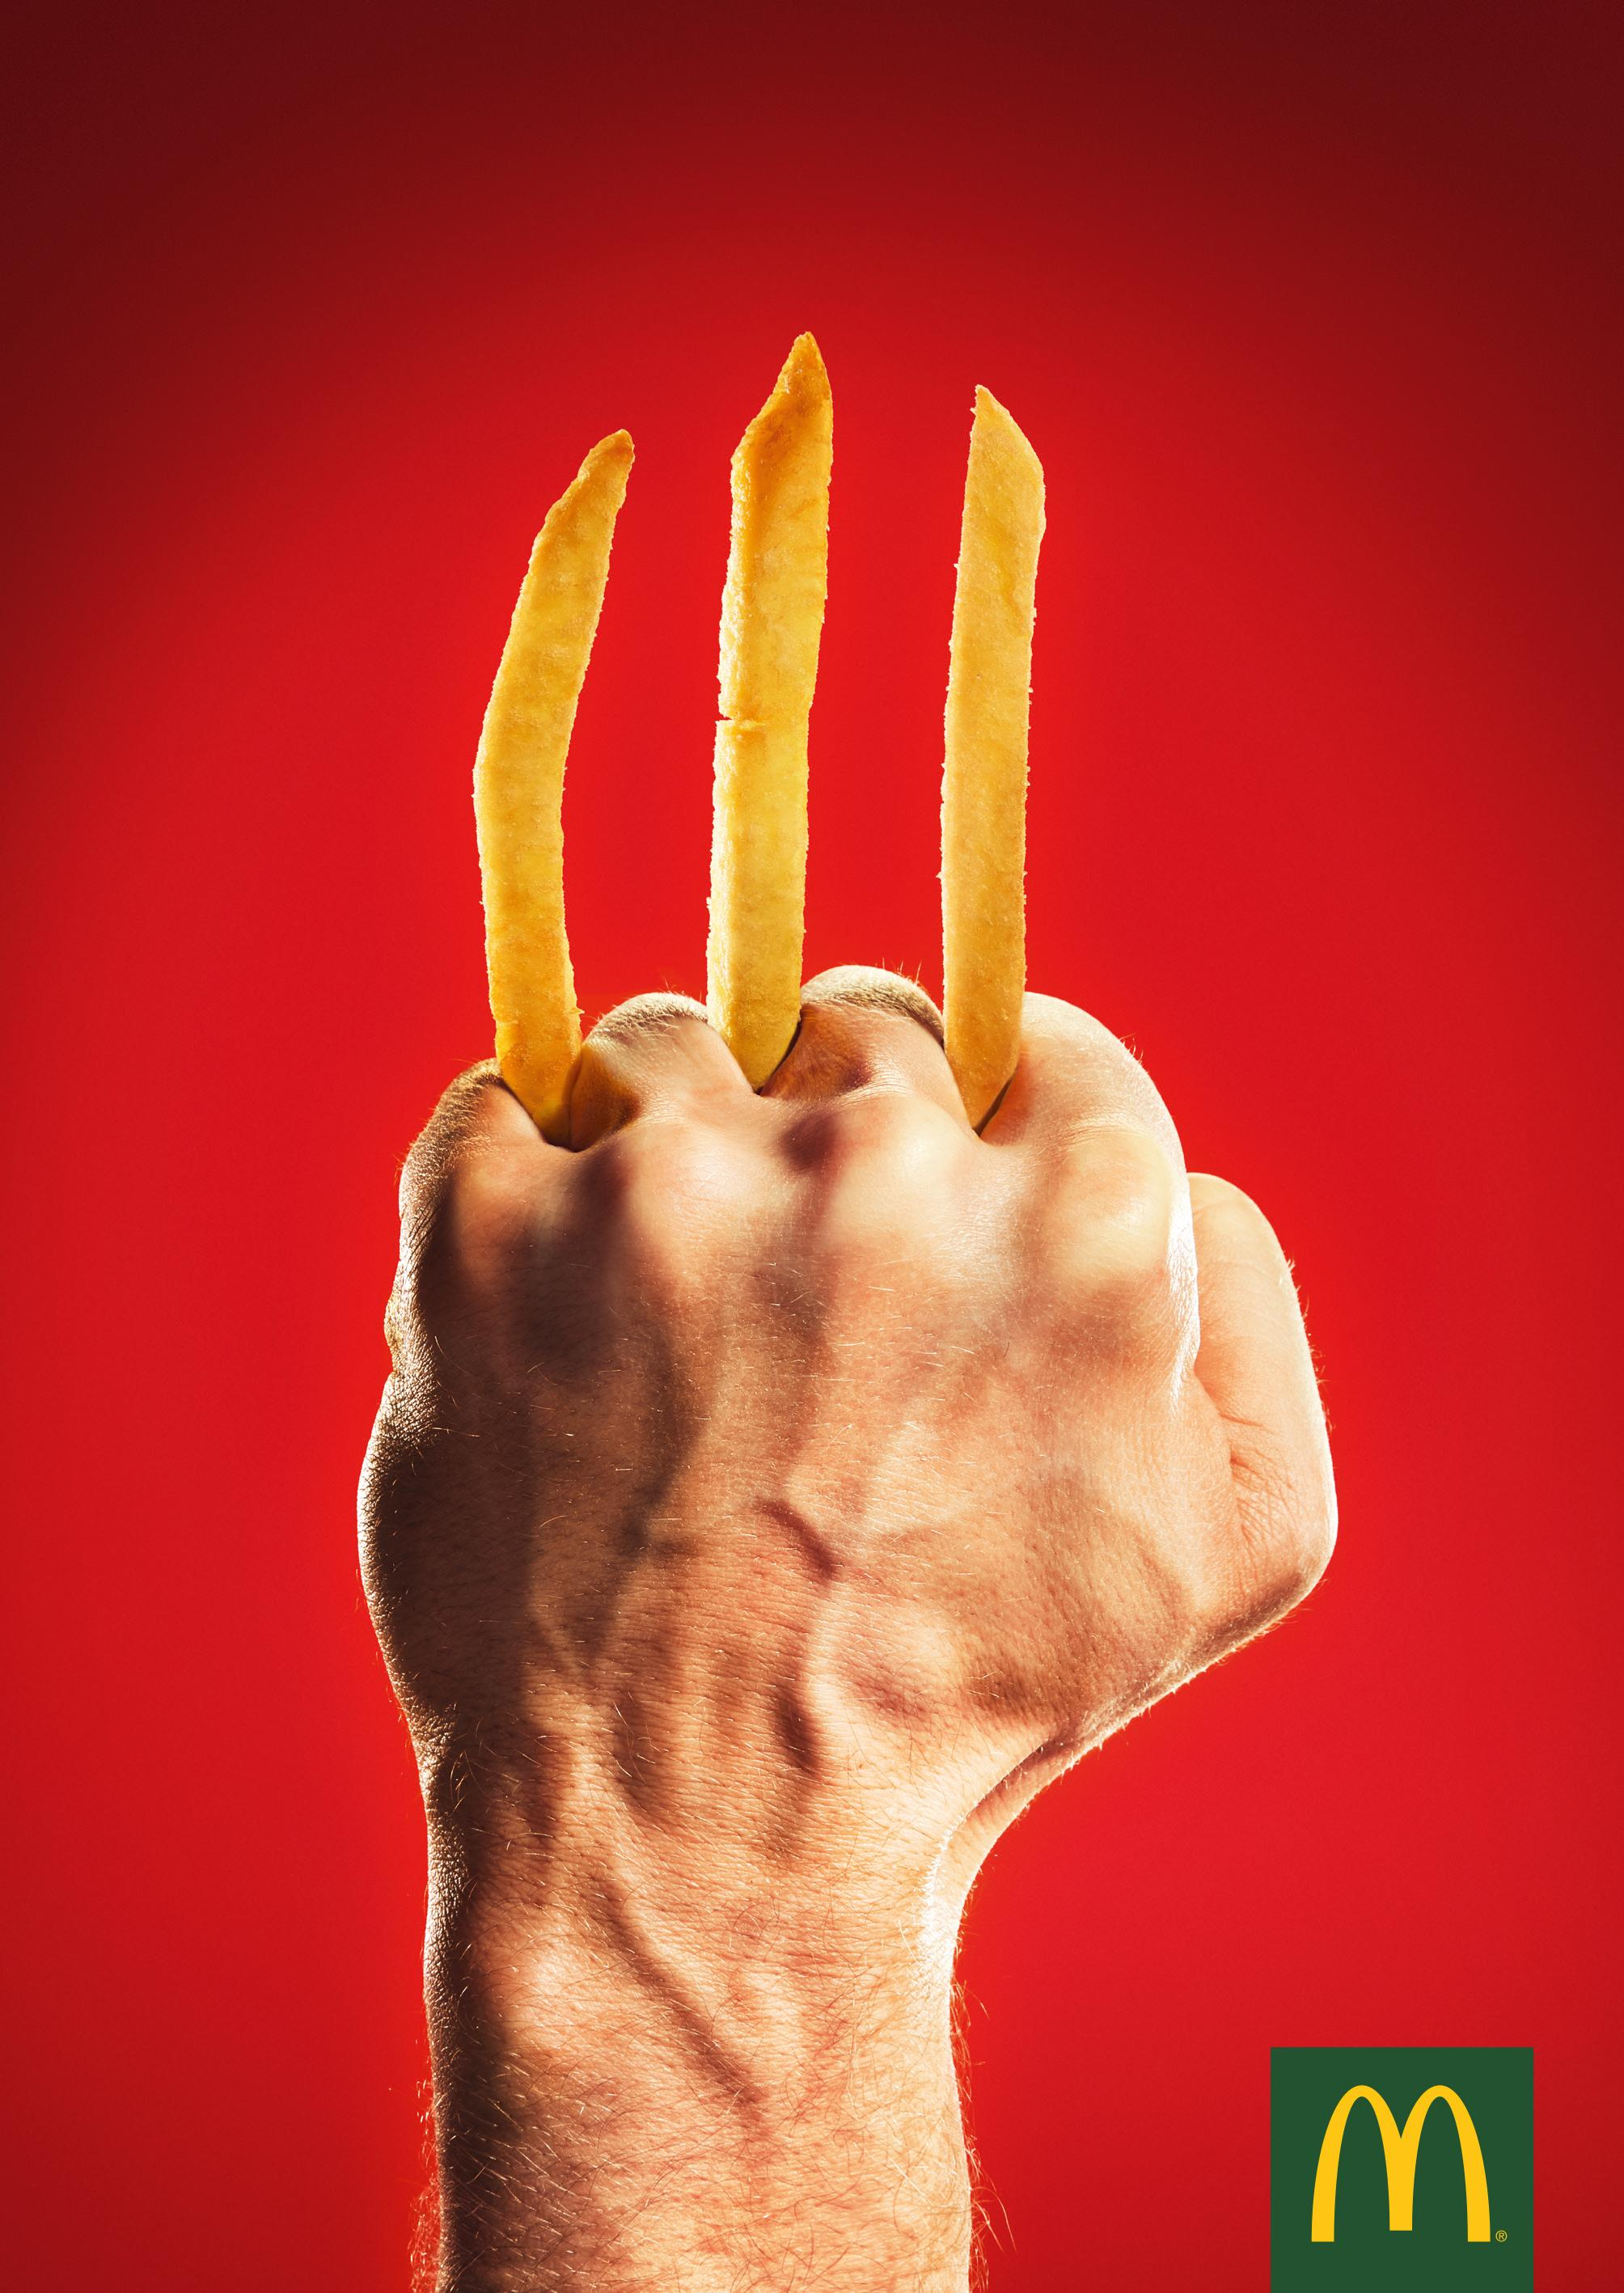mcdonalds: (1276, 2068, 1494, 2253)
